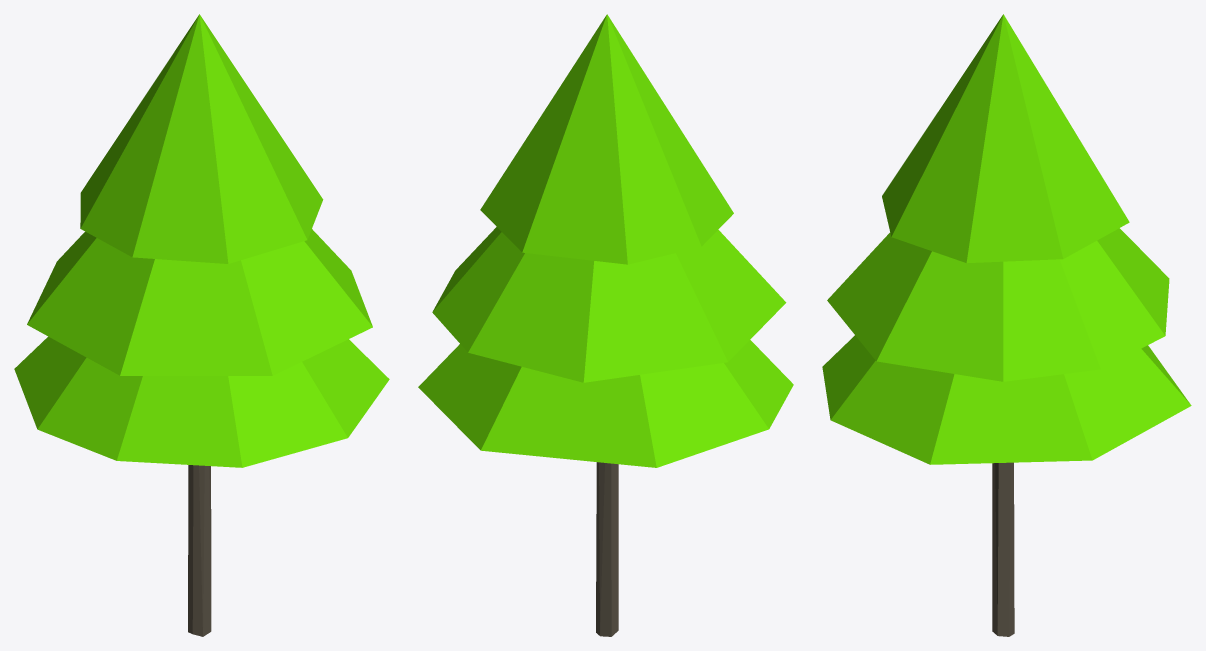
File: chjer.fbx
The picture shows the model from 3 angles, left to right: view 1: azimuth 30°, elevation 25°; view 2: azimuth 150°, elevation 25°; view 3: azimuth 270°, elevation 25°; orthographic projection.
Visible parts, largest first — view 1: Cone; view 2: Cone; view 3: Cone.
Part boxes in pixels (x1,y1,x2,y2): Cone: (14, 14, 389, 636); Cone: (418, 14, 793, 636); Cone: (822, 14, 1191, 636).
Size of the model in its own units: 251 by 469 by 254.
